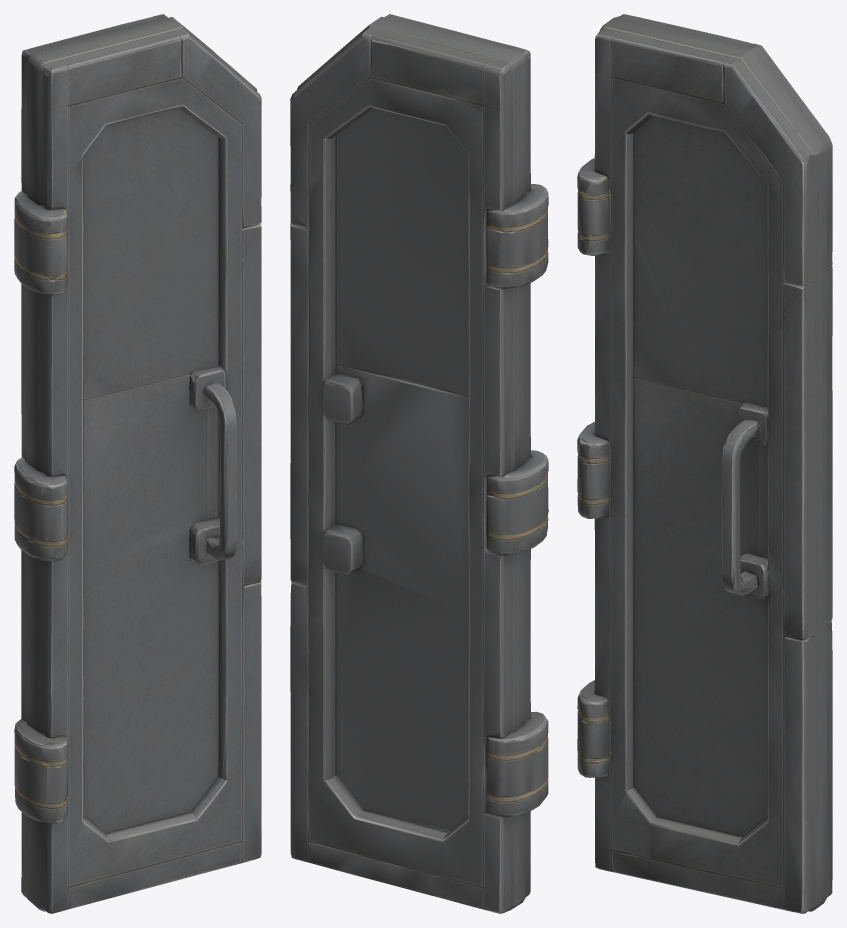
Rendered from imperial_alloy_foundry__entrance_door_leaf.glb.
3 views of the same model, side by side, from view 1: azimuth 30°, elevation 25°; view 2: azimuth 150°, elevation 25°; view 3: azimuth 330°, elevation 25° (orthographic).
Visible parts, largest first — view 1: mesh_node; view 2: mesh_node; view 3: mesh_node.
Boxes of the visible parts, bbox=[...] form: mesh_node: bbox=[14, 14, 261, 913]; mesh_node: bbox=[290, 14, 548, 913]; mesh_node: bbox=[577, 14, 832, 913].
Bounding box in the file's own units: 0.8041 × 2.8 × 0.3366.
1 material, 1 textured.
